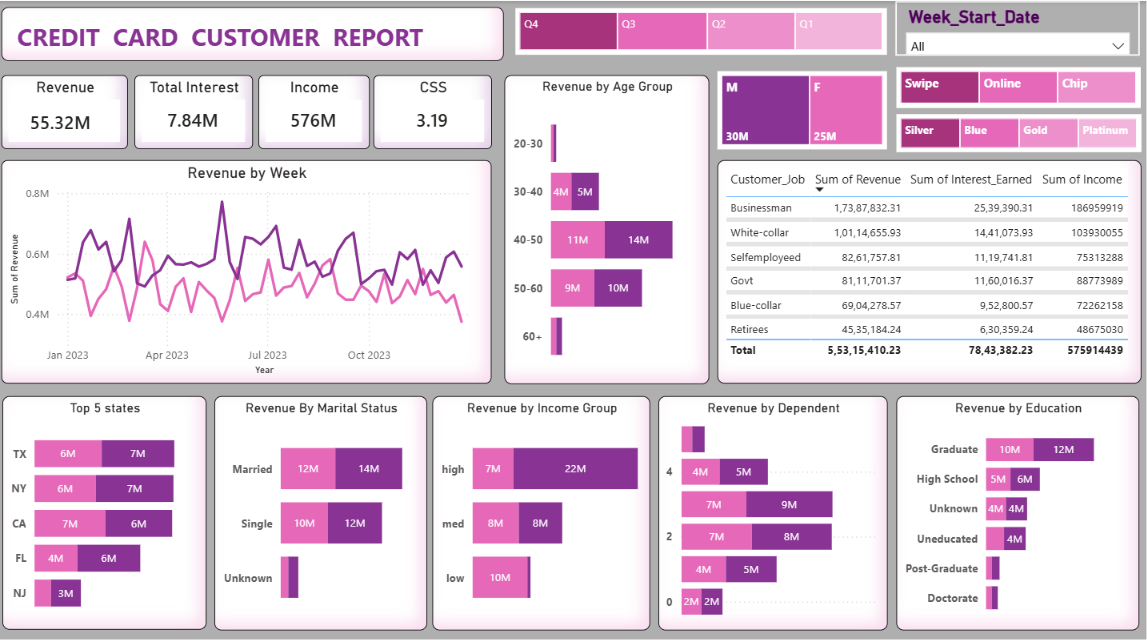

The page's visual inventory and layout, read from the dashboard file:
{"tool":"powerbi","page":{"name":"customer","canvas":[1280,720],"ordinal":1},"visuals":[{"type":"barChart","title":"Revenue by Income Group","fields":{"Y":["Sum(credit_card.TotalRevenue)"],"Category":["customer.IncomeGroup"],"Series":["customer.Gender"]},"box":[483.1,439.7,242.7,260.5],"z":0},{"type":"tableEx","title":"lRevenue by Exp Type","fields":{"Values":["customer.Customer_Job","Sum(credit_card.TotalRevenue)","Sum(credit_card.Interest_Earned)","Sum(customer.Income)"]},"box":[800,177.3,471.8,249.1],"z":1000},{"type":"cardVisual","title":" Revenue","fields":{"Data":["Sum(credit_card.TotalRevenue)"]},"box":[3.6,82.7,140.9,82.7],"z":2000},{"type":"cardVisual","title":"Total Interest","fields":{"Data":["Sum(credit_card.Interest_Earned)"]},"box":[150.9,82.7,131.8,82.7],"z":3000},{"type":"cardVisual","title":"Income","fields":{"Data":["Sum(customer.Income)"]},"box":[289.1,82.7,123.6,82.7],"z":4000},{"type":"cardVisual","title":"CSS","fields":{"Data":["Avg(customer.Cust_Satisfaction_Score)"]},"box":[417.3,82.7,131.8,82.7],"z":5000},{"type":"treemap","fields":{"Group":["credit_card.Qtr"],"Values":["Avg(customer.Client_Num)"]},"box":[575.5,8.2,413.6,51.8],"z":6000},{"type":"treemap","fields":{"Values":["Avg(customer.Client_Num)"],"Group":["credit_card.Use Chip"]},"box":[999.1,73.6,271.8,45.5],"z":7000},{"type":"treemap","fields":{"Values":["Avg(customer.Client_Num)"],"Group":["credit_card.Card_Category"]},"box":[999.1,125.5,272.7,42.7],"z":9000},{"type":"textbox","box":[3.3,6.7,558.8,60.1],"z":10000},{"type":"slicer","fields":{"Values":["credit_card.Week_Start_Date"]},"box":[998.8,0,272.1,60.5],"z":11000},{"type":"lineChart","title":"Revenue by Week","fields":{"Y":["Sum(credit_card.Revenue)"],"Series":["customer.Gender"],"Category":["credit_card.Week_Start_Date.Variation.Date Hierarchy.Year","credit_card.Week_Start_Date.Variation.Date Hierarchy.Month","credit_card.Week_Start_Date.Variation.Date Hierarchy.Day"]},"box":[3.6,177.3,545.5,249.1],"z":12000},{"type":"treemap","fields":{"Group":["customer.Gender"],"Values":["Sum(credit_card.Revenue)"]},"box":[800,78.2,189.1,87.3],"z":13000},{"type":"barChart","title":"Revenue by Age Group","fields":{"Y":["Sum(credit_card.TotalRevenue)"],"Category":["customer.AgeGroup"],"Series":["customer.Gender"]},"box":[562.7,82.7,228.2,343.6],"z":14000},{"type":"barChart","title":"Revenue by Education","fields":{"Y":["Sum(credit_card.TotalRevenue)"],"Category":["customer.Education_Level"],"Series":["customer.Gender"]},"box":[999.6,439.7,270.5,260.5],"z":15000},{"type":"barChart","title":"Revenue by Dependent ","fields":{"Y":["Sum(credit_card.TotalRevenue)"],"Category":["customer.Dependent_Count"],"Series":["customer.Gender"]},"box":[734.7,439.7,254.9,260.5],"z":16000},{"type":"barChart","title":"Top 5 states","fields":{"Y":["Sum(credit_card.TotalRevenue)"],"Category":["customer.state_cd"],"Series":["customer.Gender"]},"box":[4.3,440,227.1,260],"z":17000},{"type":"barChart","title":"Revenue By Marital Status","fields":{"Y":["Sum(credit_card.TotalRevenue)"],"Category":["customer.Marital_Status"],"Series":["customer.Gender"]},"box":[240,439.7,237.1,260.5],"z":18000}]}

Visuals, with their boxes in screenshot pixels (x1, y1, x2, y2), scaled from the page's 1280x720 canvas onto the 1147x640 screenshot:
"Revenue by Income Group" barChart: [433, 391, 650, 622]
"lRevenue by Exp Type" tableEx: [717, 158, 1140, 379]
" Revenue" cardVisual: [3, 74, 129, 147]
"Total Interest" cardVisual: [135, 74, 253, 147]
"Income" cardVisual: [259, 74, 370, 147]
"CSS" cardVisual: [374, 74, 492, 147]
treemap - credit_card.Qtr x Avg(customer.Client_Num): [516, 7, 886, 53]
treemap - Avg(customer.Client_Num) x credit_card.Use Chip: [895, 65, 1139, 106]
treemap - Avg(customer.Client_Num) x credit_card.Card_Category: [895, 112, 1140, 150]
textbox: [3, 6, 504, 59]
slicer - credit_card.Week_Start_Date: [895, 0, 1139, 54]
"Revenue by Week" lineChart: [3, 158, 492, 379]
treemap - customer.Gender x Sum(credit_card.Revenue): [717, 70, 886, 147]
"Revenue by Age Group" barChart: [504, 74, 709, 379]
"Revenue by Education" barChart: [896, 391, 1138, 622]
"Revenue by Dependent " barChart: [658, 391, 887, 622]
"Top 5 states" barChart: [4, 391, 207, 622]
"Revenue By Marital Status" barChart: [215, 391, 428, 622]
